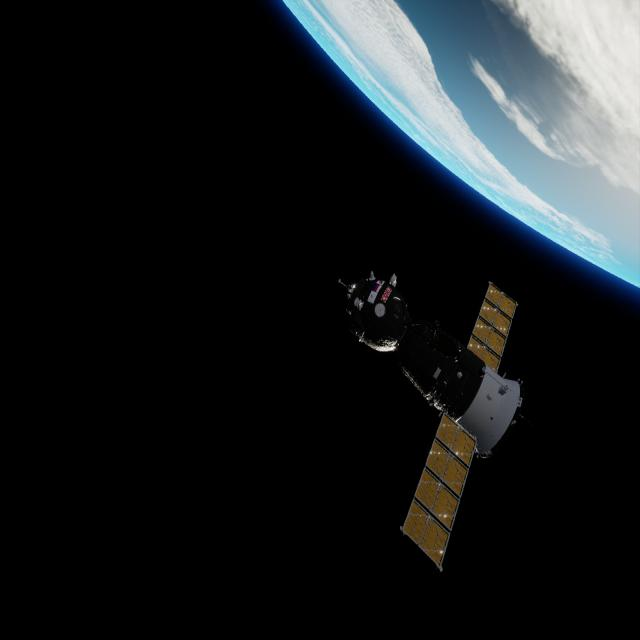Satellites revolving around earth: (336, 267, 526, 573)
